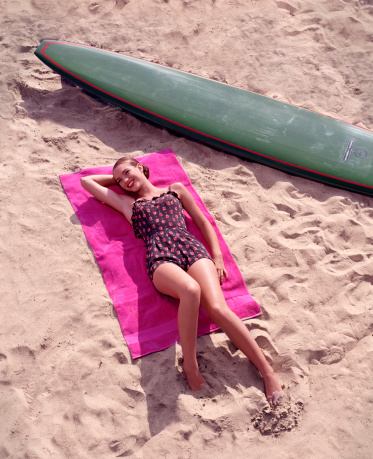deitado: (85, 128, 275, 409)
